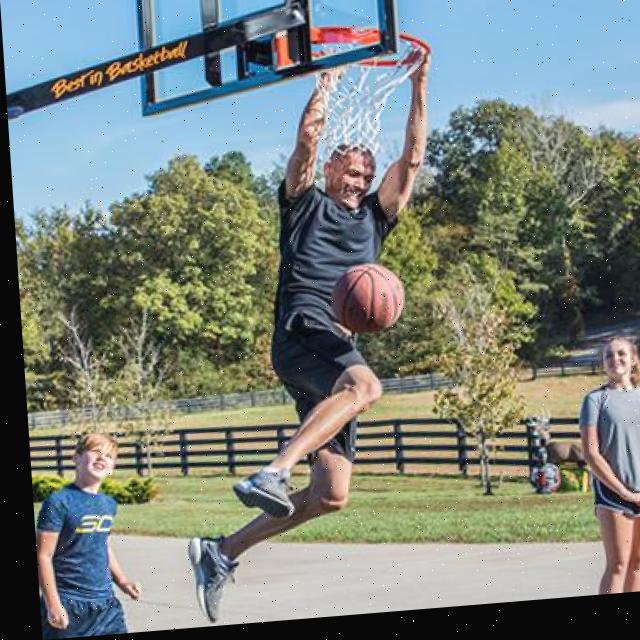basketball: (330, 262, 407, 335)
hoop: (309, 17, 439, 161)
